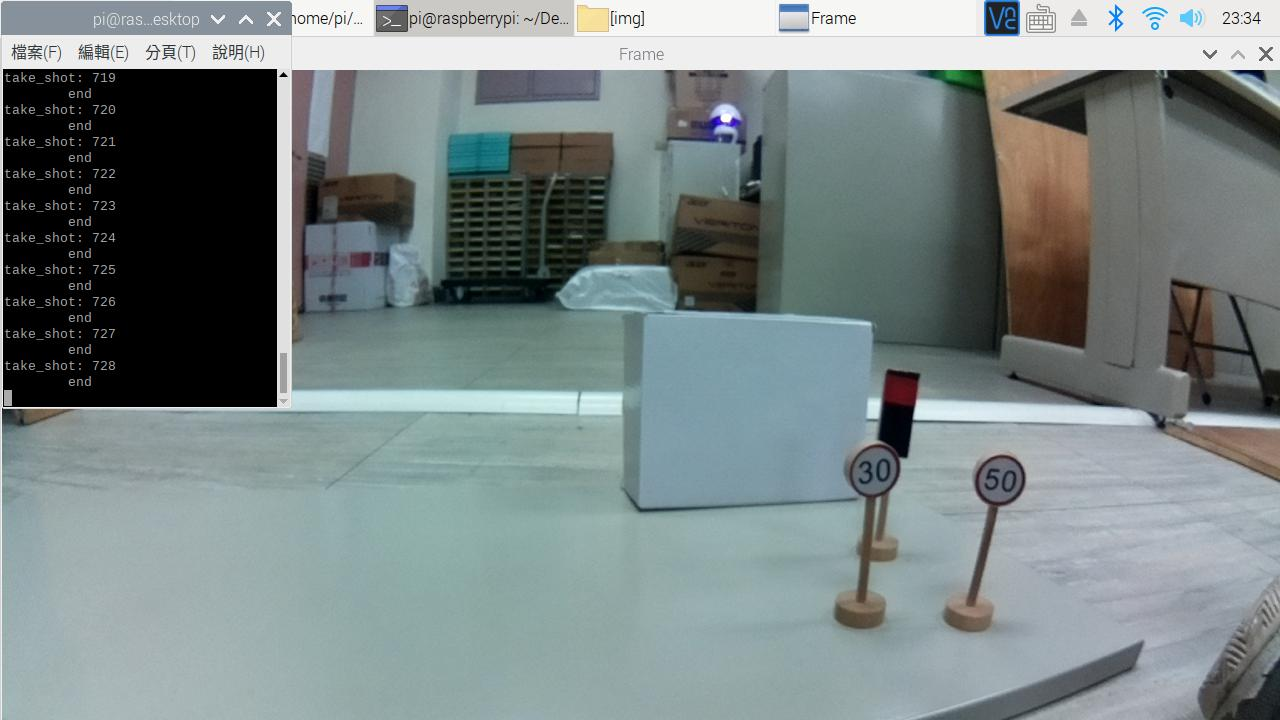Red: (878, 364, 914, 449)
Speed30: (844, 442, 900, 494)
Speed50: (969, 451, 1031, 509)
